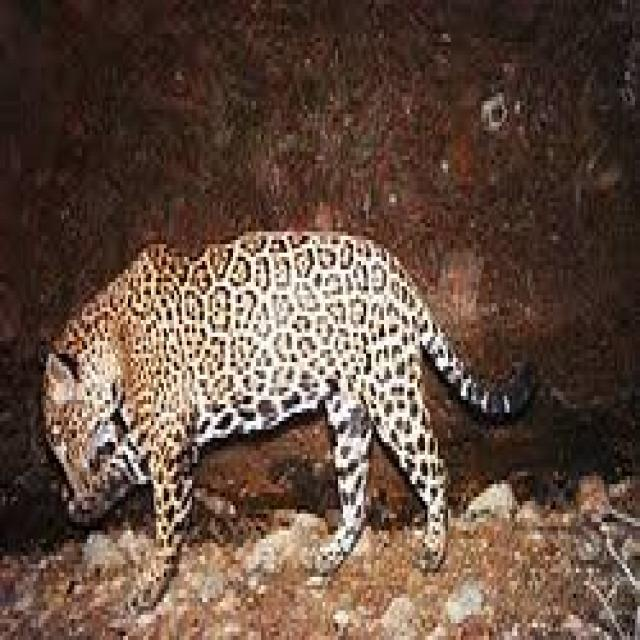Jaguar: (41, 228, 540, 606)
